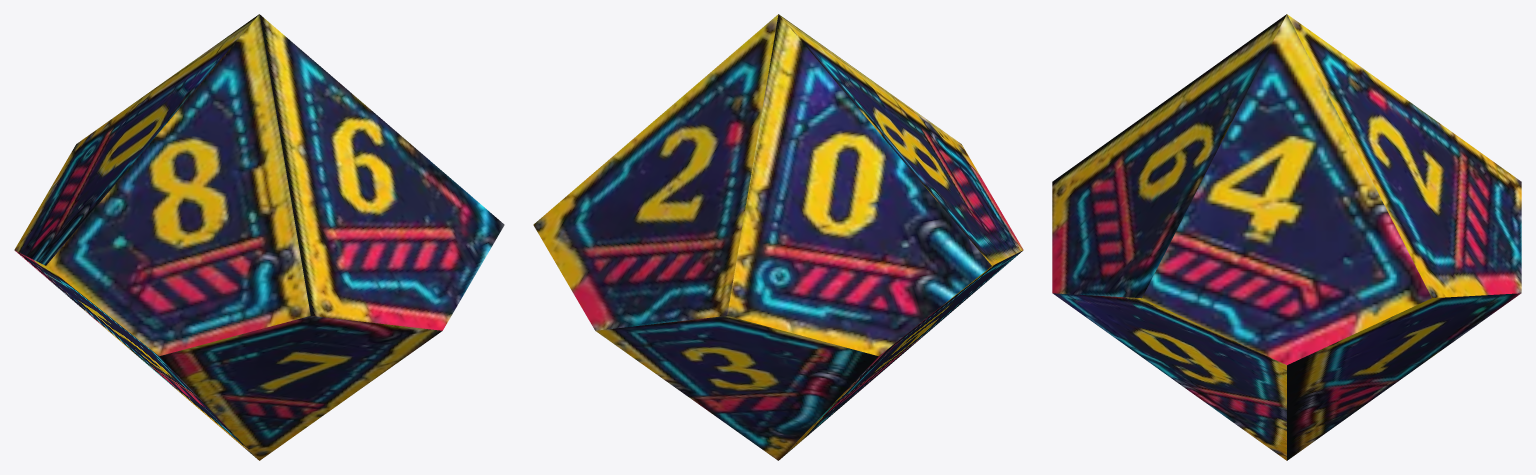
3 views of the same model, side by side, from view 1: azimuth 30°, elevation 25°; view 2: azimuth 150°, elevation 25°; view 3: azimuth 270°, elevation 25° (orthographic).
Parts seen in each view (by area): view 1: Themed_D10; view 2: Themed_D10; view 3: Themed_D10.
Part boxes in pixels (left/top/right/bottom): Themed_D10: left=14, top=14, right=504, bottom=460; Themed_D10: left=533, top=14, right=1023, bottom=460; Themed_D10: left=1052, top=14, right=1521, bottom=460.
Bounding box in the file's own units: 1.44 × 1.44 × 1.37.
1 material, 1 textured.
